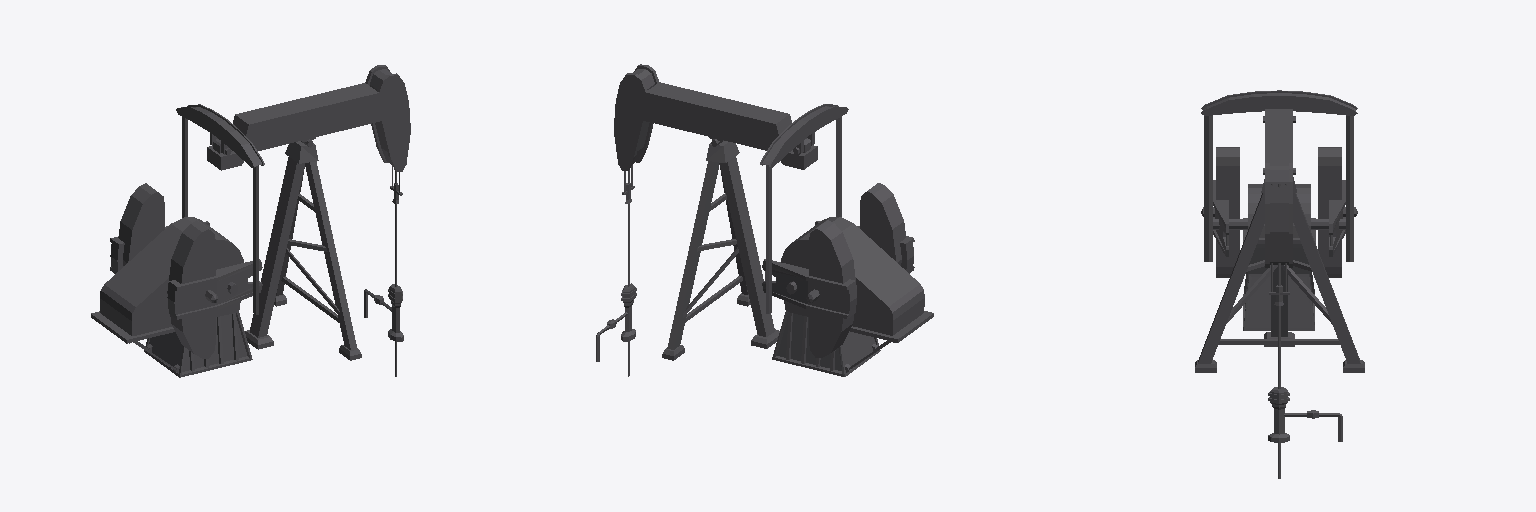
Rendered from rig.obj.
The picture shows the model from 3 angles: view 1: azimuth 30°, elevation 25°; view 2: azimuth 150°, elevation 25°; view 3: azimuth 270°, elevation 25°; orthographic projection.
Visible parts, largest first — view 1: Pump1; view 2: Pump1; view 3: Pump1.
Boxes of the visible parts, <box> form: Pump1: <box>91,65,410,377</box>; Pump1: <box>596,64,933,376</box>; Pump1: <box>1195,90,1364,478</box>.
Bounding box in the file's own units: 2 × 2 × 1.